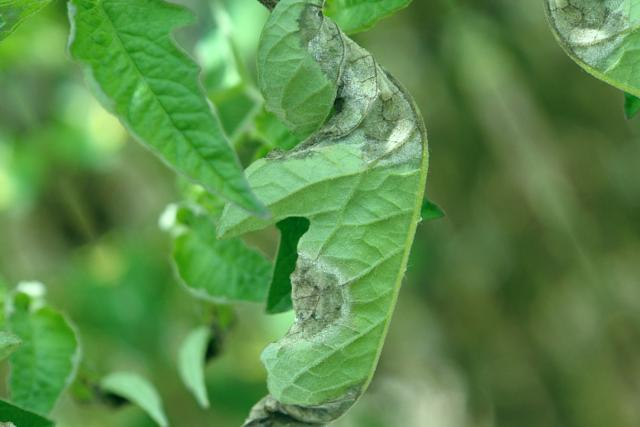Tomato leaf late blight: (39, 0, 552, 427), (14, 0, 349, 320)
